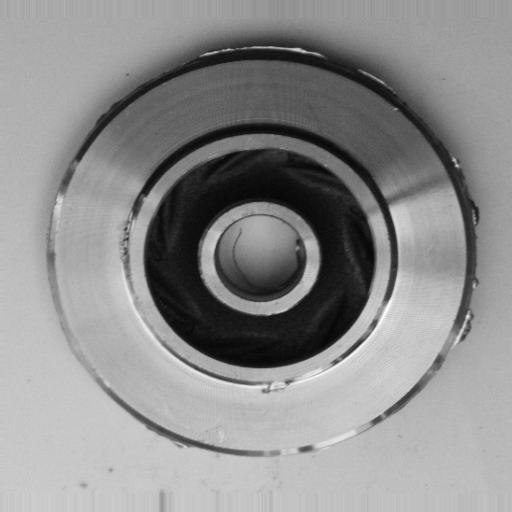casting_with_burr: (44, 40, 485, 461)
crack: (250, 361, 337, 405), (115, 189, 147, 290)
